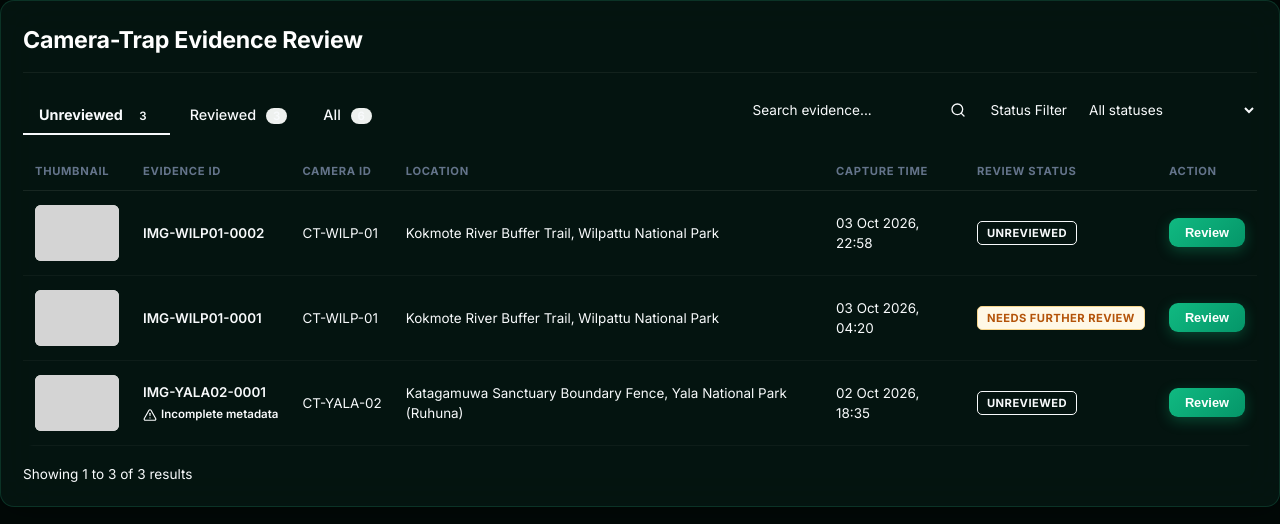
Scenario: EvidenceReviewQueue › Reviewed tab lists REVIEWED and REVIEWED_ESCALATED evidence with View actions
What coordinates should you click on to do the following:
click the tab "Reviewed 3"
I would click on:
 (238, 115)
Its box is [174,96,303,135].
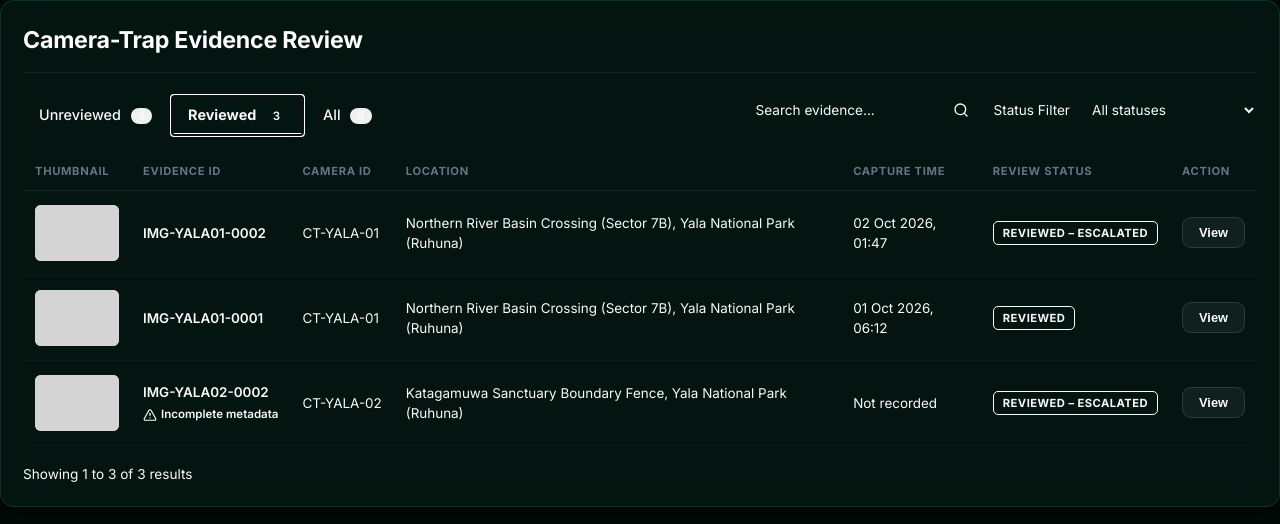
Expected: the button "Review IMG" is not shown
Now the button with aria-label "View IMG-YALA01-0002" is shown, box [1182,218,1245,248]
